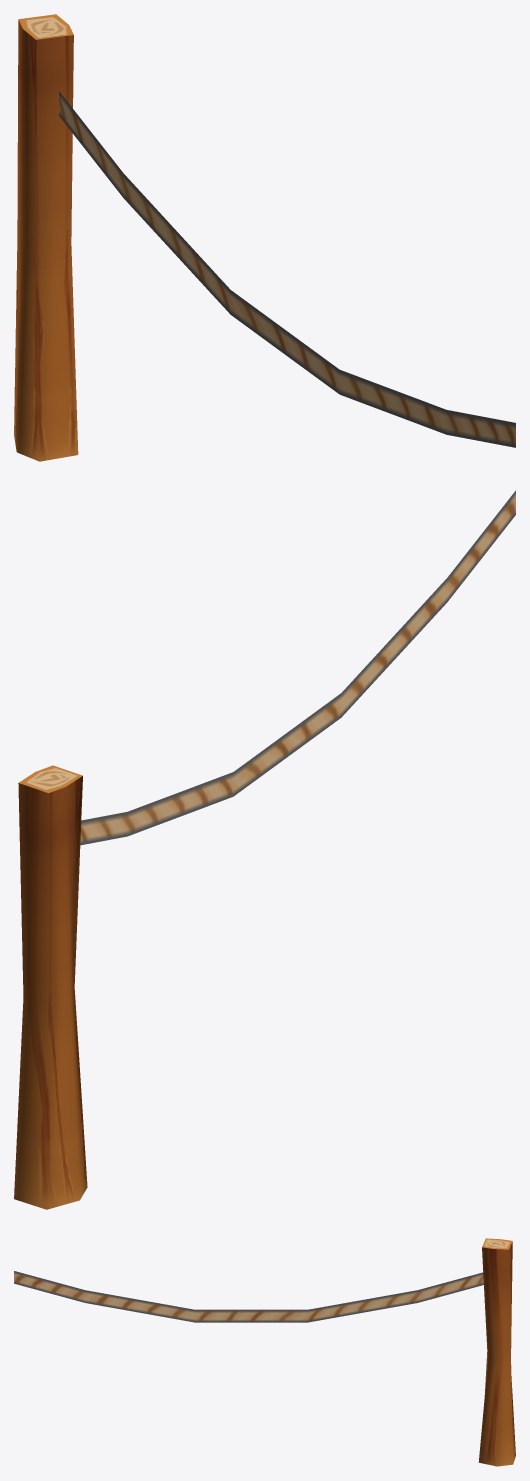
File: port_fence2_1.fbx
The picture shows the model from 3 angles, top to bottom: view 1: azimuth 30°, elevation 25°; view 2: azimuth 150°, elevation 25°; view 3: azimuth 270°, elevation 25°; orthographic projection. The views are drawn at different scales.
Parts seen in each view (by area): view 1: port_fence2_1; view 2: port_fence2_1; view 3: port_fence2_1.
Boxes of the visible parts, bbox=[...] form: port_fence2_1: bbox=[14, 14, 515, 461]; port_fence2_1: bbox=[14, 490, 515, 1209]; port_fence2_1: bbox=[14, 1238, 515, 1466].
Size of the model in its own units: 52.82 by 359 by 758.
